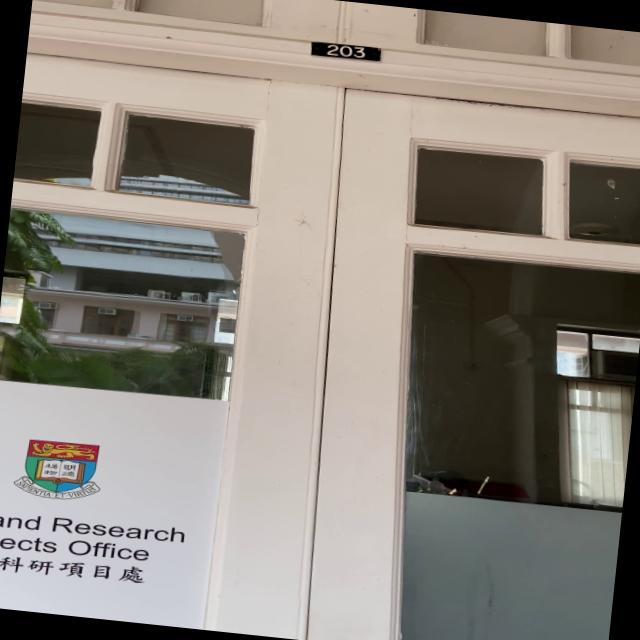room203: (306, 40, 382, 66)
